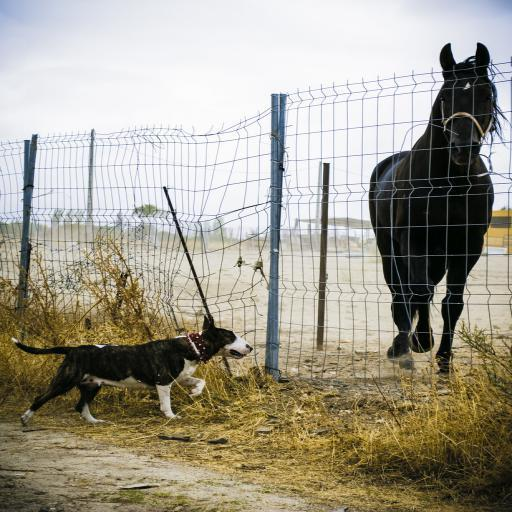horse: (367, 42, 512, 386)
